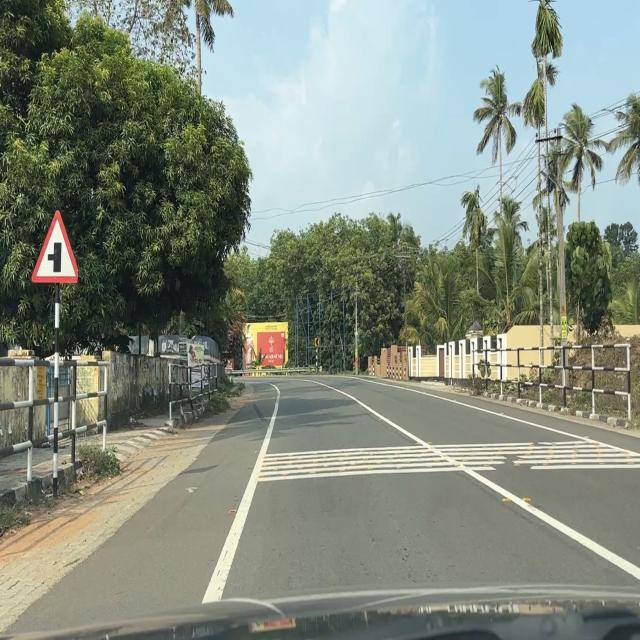SIDE_ROAD_LEFT: (31, 209, 81, 286)
